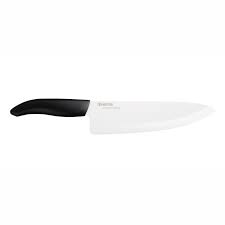kuchillu: (5, 92, 218, 141)
